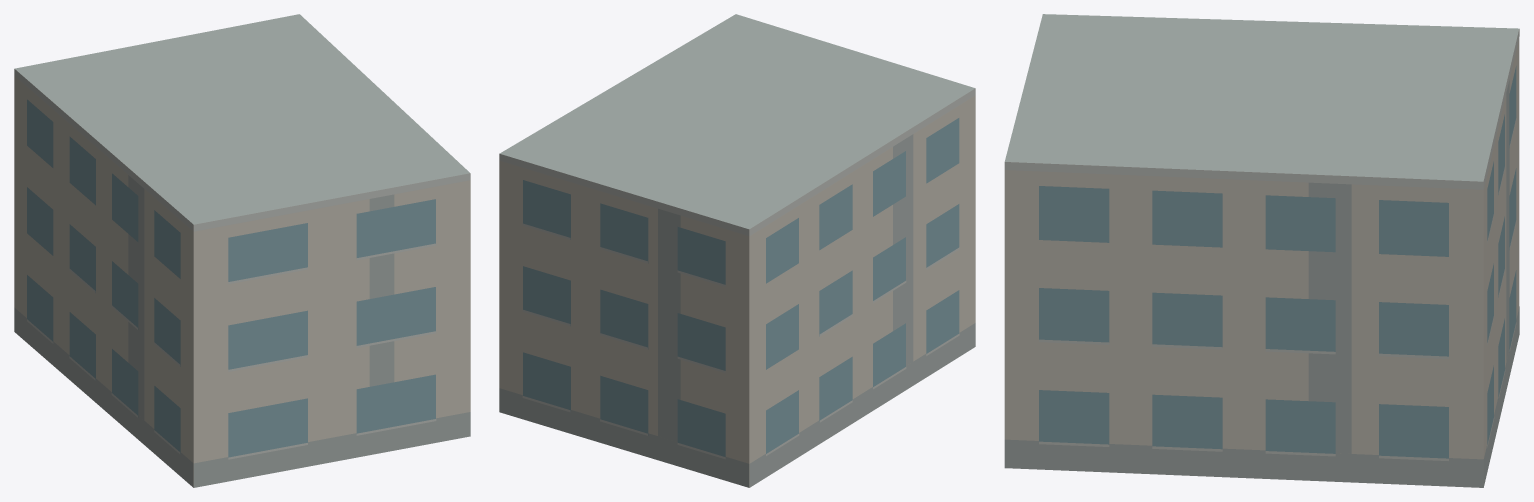
Rendered from survey-upis-32993781.glb.
The picture shows the model from 3 angles, left to right: view 1: azimuth 30°, elevation 25°; view 2: azimuth 150°, elevation 25°; view 3: azimuth 270°, elevation 25°; orthographic projection. The views are drawn at different scales.
Parts seen in each view (by area): view 1: survey-upis-32993781.tmp; view 2: survey-upis-32993781.tmp; view 3: survey-upis-32993781.tmp.
Part boxes in pixels (x1=…): survey-upis-32993781.tmp: x1=14, y1=14, x2=470, y2=487; survey-upis-32993781.tmp: x1=499, y1=14, x2=975, y2=487; survey-upis-32993781.tmp: x1=1004, y1=14, x2=1519, y2=487.
Bounding box in the file's own units: 10.76 × 9.15 × 13.95.
